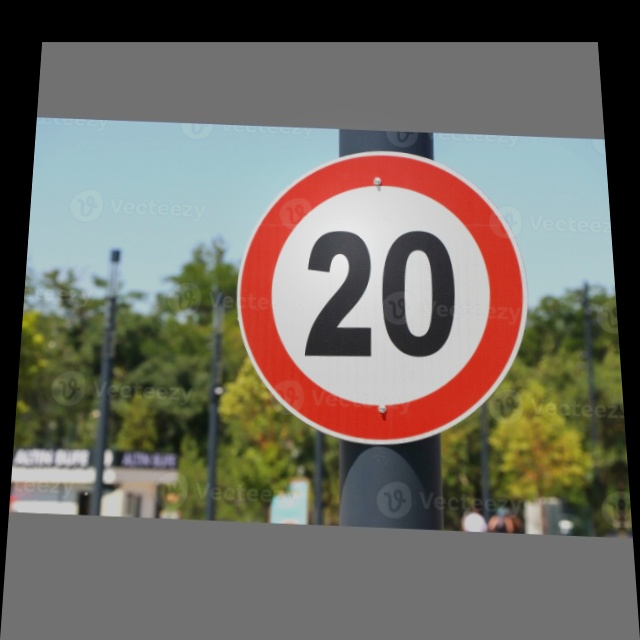Speed_Limit_20: (233, 141, 534, 437)
